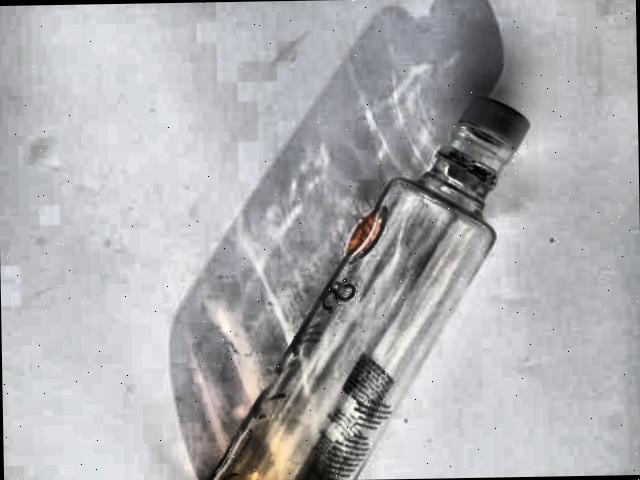Bottles: (222, 79, 568, 480)
